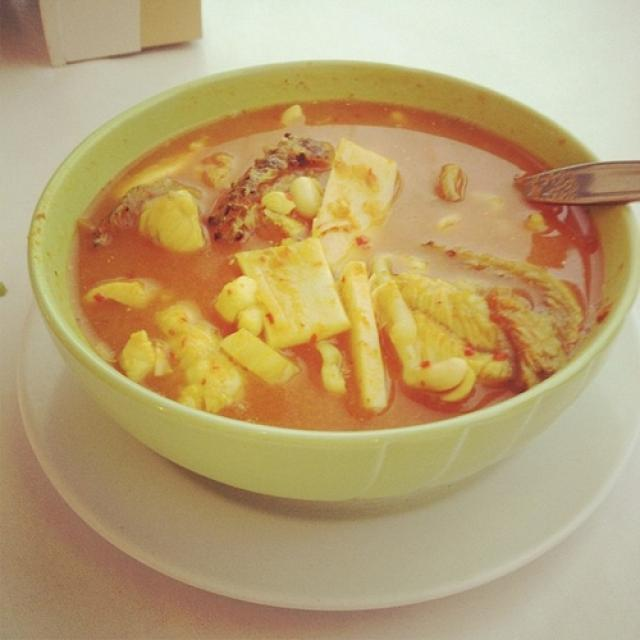汤锅炖物: (45, 72, 621, 448)
